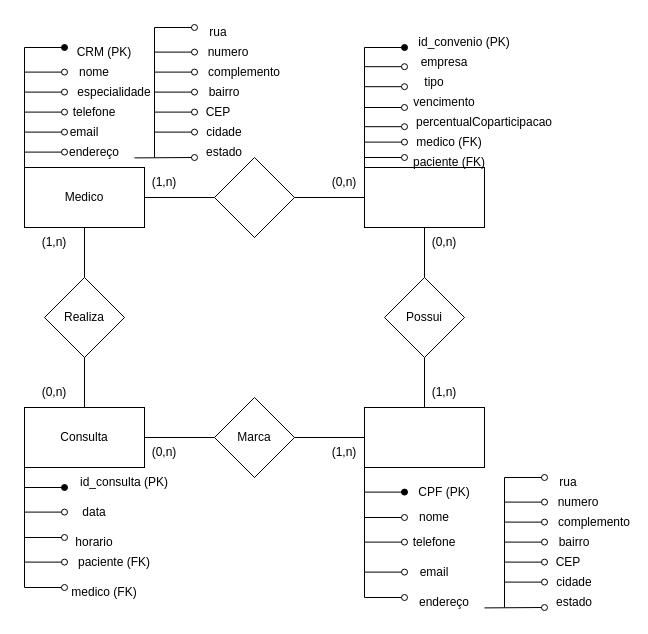
The diagram is 648 pixels wide and 634 high, and some of its shapes have lost their labels. The box of each missing label's shape, as (x1, y1, x2, y2) in pixels:
Atende: (214, 156, 294, 238)
Convenio: (364, 166, 484, 228)
Paciente: (364, 406, 484, 468)
